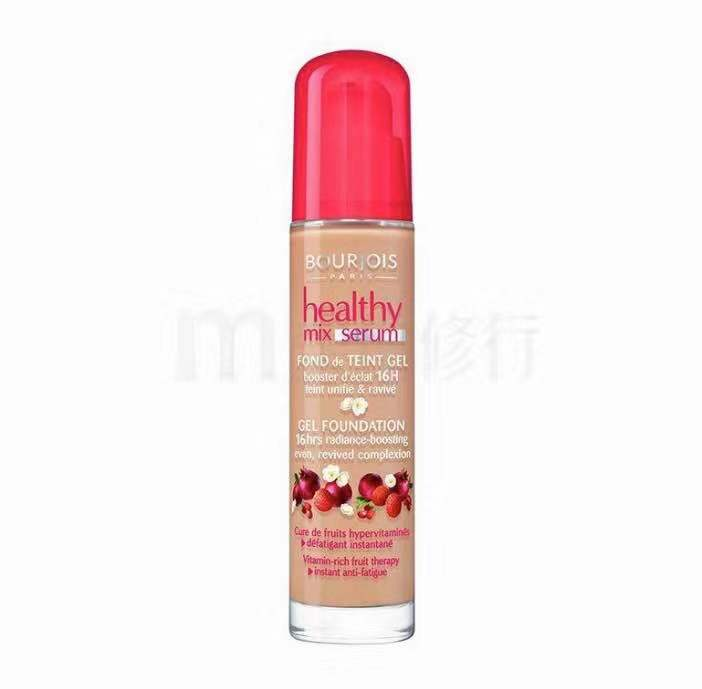cosmetic: (285, 50, 416, 639)
